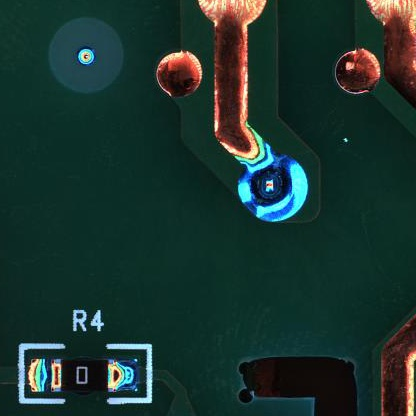spot: (237, 157, 310, 225)
